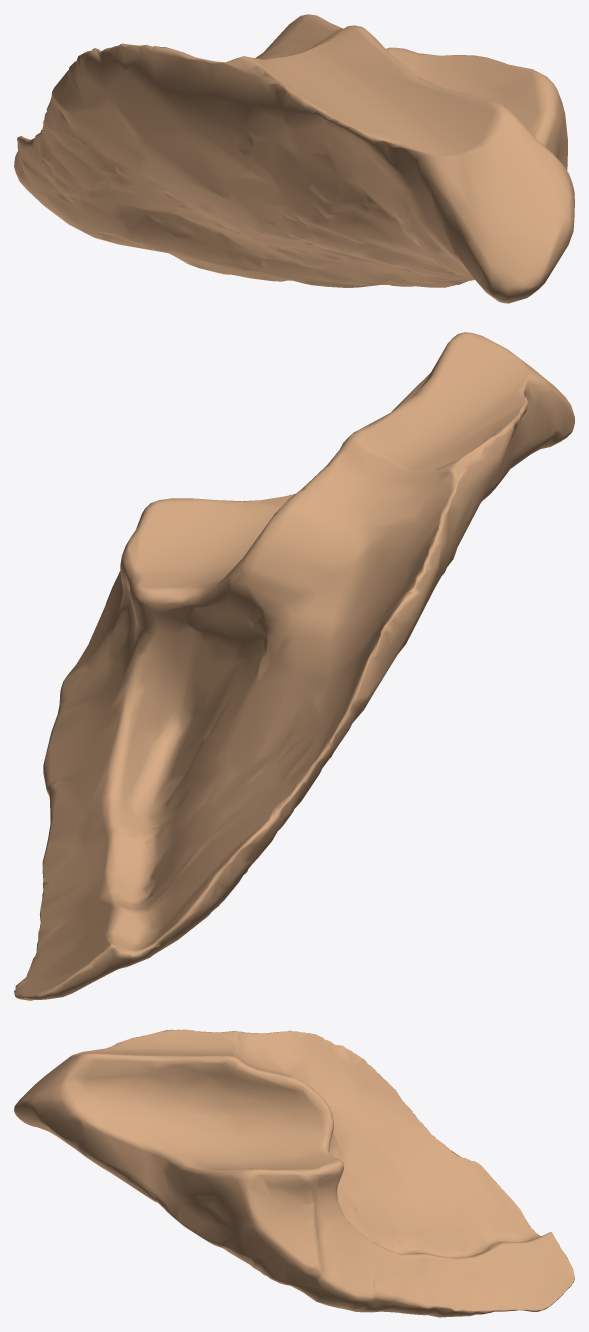
The picture shows the model from 3 angles, top to bottom: view 1: azimuth 30°, elevation 25°; view 2: azimuth 150°, elevation 25°; view 3: azimuth 270°, elevation 25°; orthographic projection. The views are drawn at different scales.
Parts seen in each view (by area): view 1: 胸腺右叶; view 2: 胸腺右叶; view 3: 胸腺右叶.
Part boxes in pixels (x1=…): 胸腺右叶: x1=14, y1=14, x2=574, y2=303; 胸腺右叶: x1=14, y1=332, x2=574, y2=1000; 胸腺右叶: x1=14, y1=1029, x2=574, y2=1317.
Size of the model in its own units: 0.0347 by 0.0358 by 0.0758.
